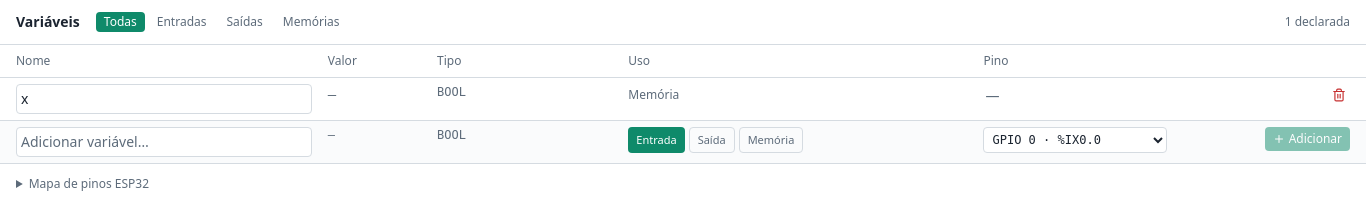
Scenario: TabelaVariaveis — trocar pino (edição in-place por botão) › escolher um pino livre aplica e volta ao modo texto
The image size is (1366, 208).
Click the button named "Alterar pino de x" at (1075, 96), box [984,84,1167,108]
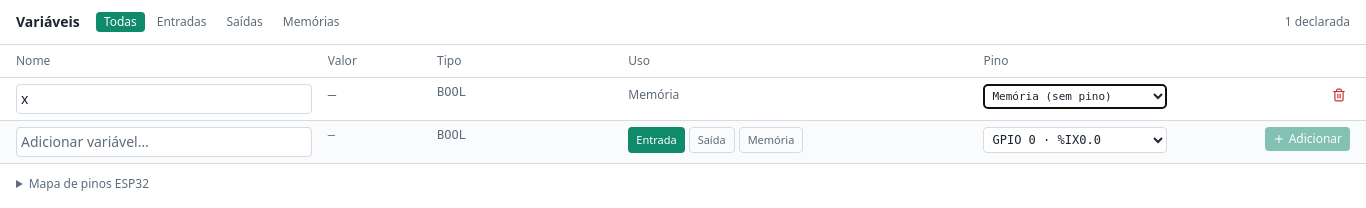
Select "GPIO 0 · %IX0.0" in the dropdown named "Pino da variável x" at (1075, 96), box [984,84,1167,109]
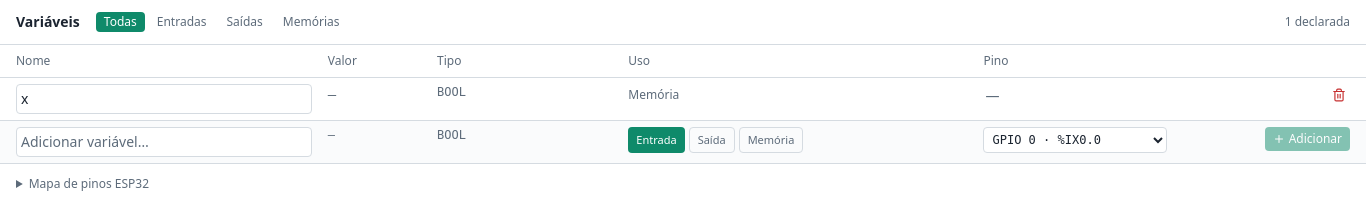
expect the button named "Alterar pino de x" is shown: met, box [984,84,1167,108]
